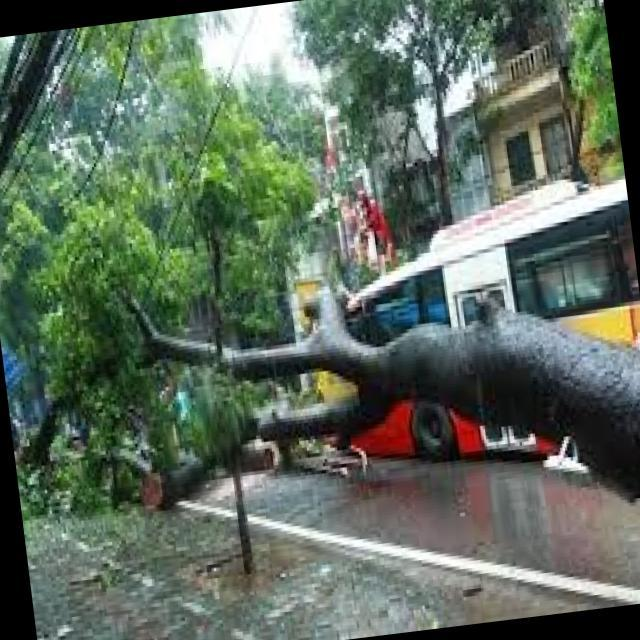fallen_object: (78, 207, 640, 575)
